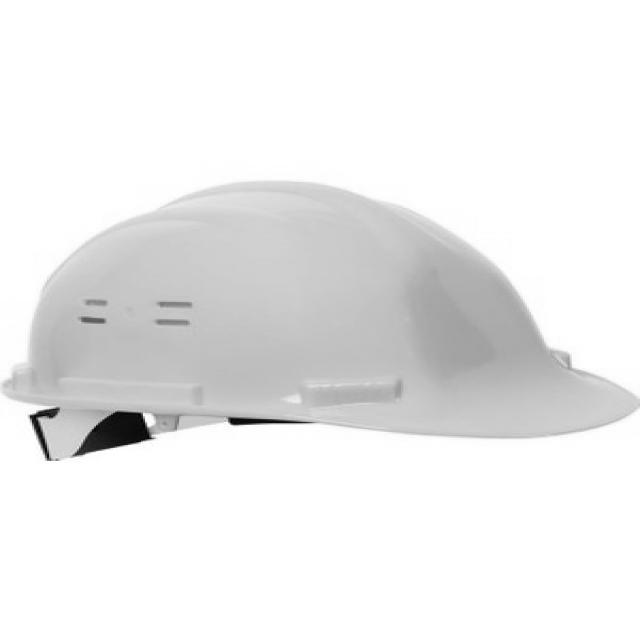safety_helmet: (0, 181, 640, 442)
